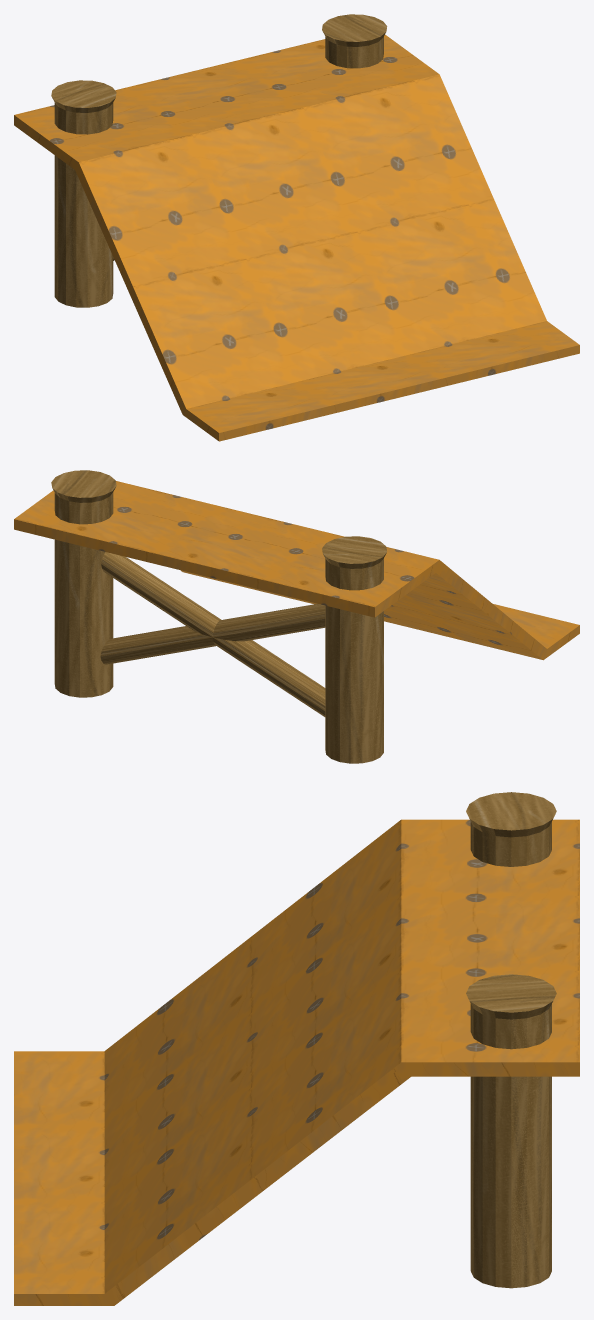
Rendered from GroundPlatformRamp.fbx.
3 renders of one model, top to bottom at view 1: azimuth 30°, elevation 25°; view 2: azimuth 150°, elevation 25°; view 3: azimuth 270°, elevation 25°, orthographic. The views are drawn at different scales.
Parts seen in each view (by area): view 1: GroundPlatformRamp; view 2: GroundPlatformRamp; view 3: GroundPlatformRamp.
Part boxes in pixels (x1=…): GroundPlatformRamp: x1=14, y1=14, x2=579, y2=441; GroundPlatformRamp: x1=14, y1=470, x2=579, y2=763; GroundPlatformRamp: x1=14, y1=792, x2=579, y2=1305.
Size of the model in its own units: 160 by 86.62 by 158.
